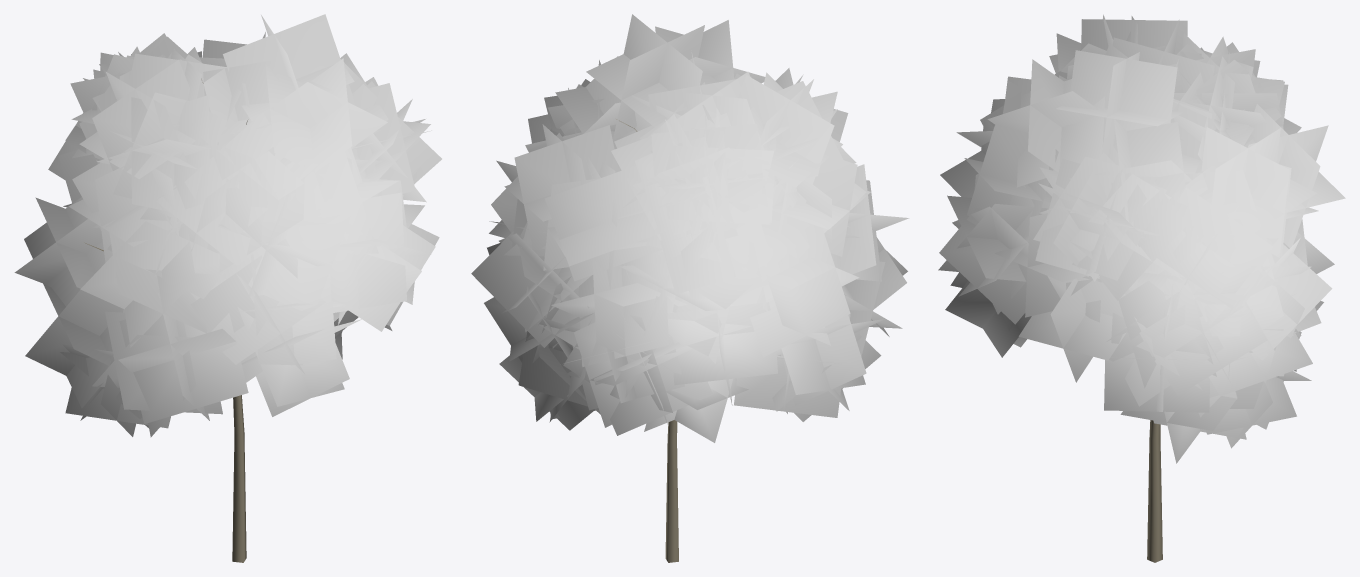
File: NormalTree_LOD2.fbx
The picture shows the model from 3 angles, left to right: view 1: azimuth 30°, elevation 25°; view 2: azimuth 150°, elevation 25°; view 3: azimuth 270°, elevation 25°; orthographic projection. The views are drawn at different scales.
Parts seen in each view (by area): view 1: Leaf_LOD2, Trunk_LOD2; view 2: Leaf_LOD2, Trunk_LOD2; view 3: Leaf_LOD2, Trunk_LOD2.
Boxes of the visible parts, x1,y1,x2,y2 form: Leaf_LOD2: (14, 14, 441, 437); Trunk_LOD2: (84, 79, 247, 562); Leaf_LOD2: (471, 14, 909, 442); Trunk_LOD2: (616, 119, 678, 562); Leaf_LOD2: (938, 14, 1345, 463); Trunk_LOD2: (1147, 420, 1162, 562).
Size of the model in its own units: 1064 by 1460 by 1030.
